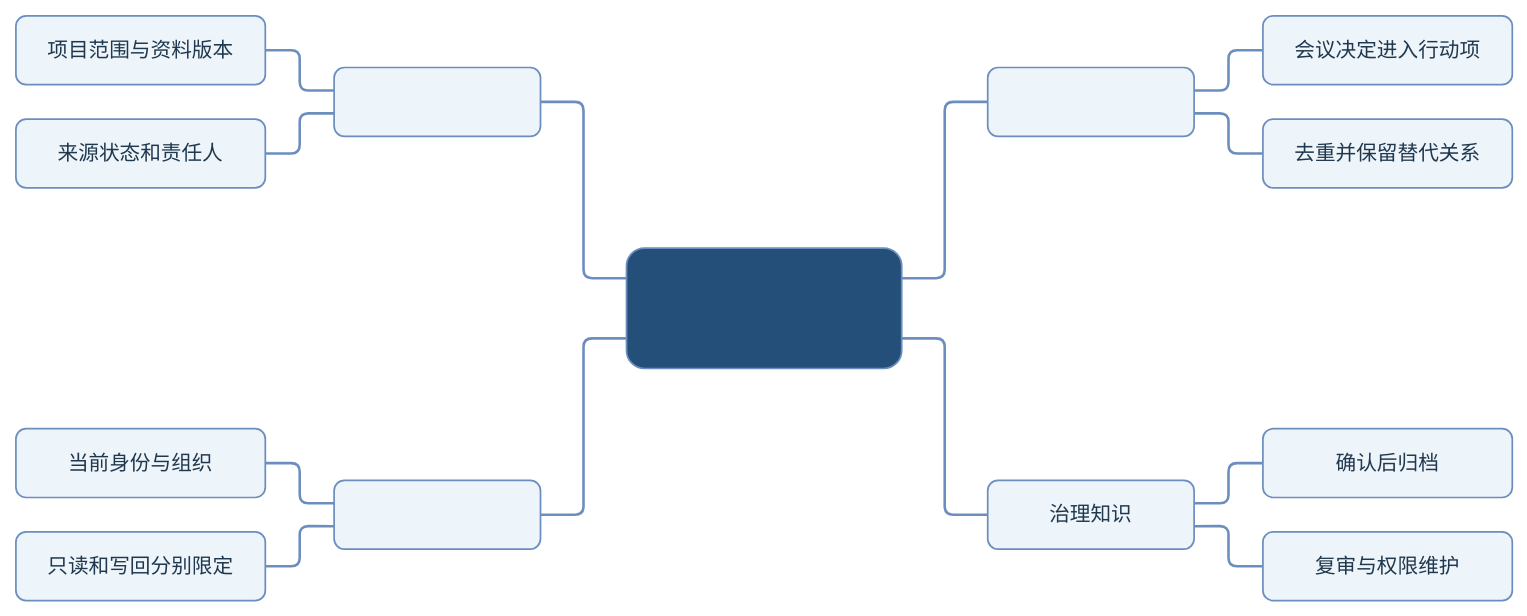
This 1527x616 diagram has some shape labels left out. Here are the shapes that lost their labels. From the top down, the centre of each, then its label:
At point (437, 101): "准备上下文".
At point (1090, 101): "整理协作".
At point (763, 308): "第11章 连接飞书".
At point (437, 514): "核对访问".
